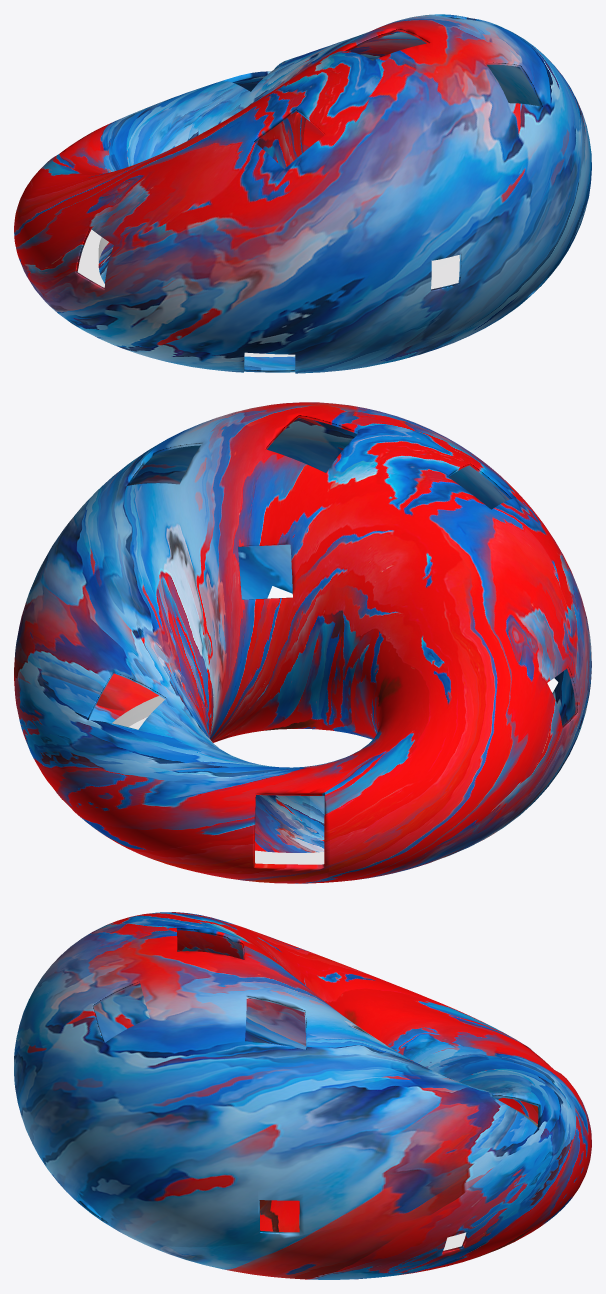
The picture shows the model from 3 angles, top to bottom: view 1: azimuth 30°, elevation 25°; view 2: azimuth 150°, elevation 25°; view 3: azimuth 270°, elevation 25°; orthographic projection. The views are drawn at different scales.
Visible parts, largest first — view 1: Solids, Ramps_2; view 2: Solids, Ramps_2, Ramps; view 3: Solids.
Boxes of the visible parts, left/top/right/bottom form: Solids: left=14, top=14, right=591, bottom=373; Ramps_2: left=77, top=229, right=459, bottom=357; Solids: left=14, top=402, right=591, bottom=883; Ramps_2: left=129, top=717, right=324, bottom=864; Ramps: left=112, top=695, right=164, bottom=727; Solids: left=14, top=912, right=591, bottom=1279.
Size of the model in its own units: 48.94 by 27.44 by 50.64.
Materials: 2 (2 with a texture image).
